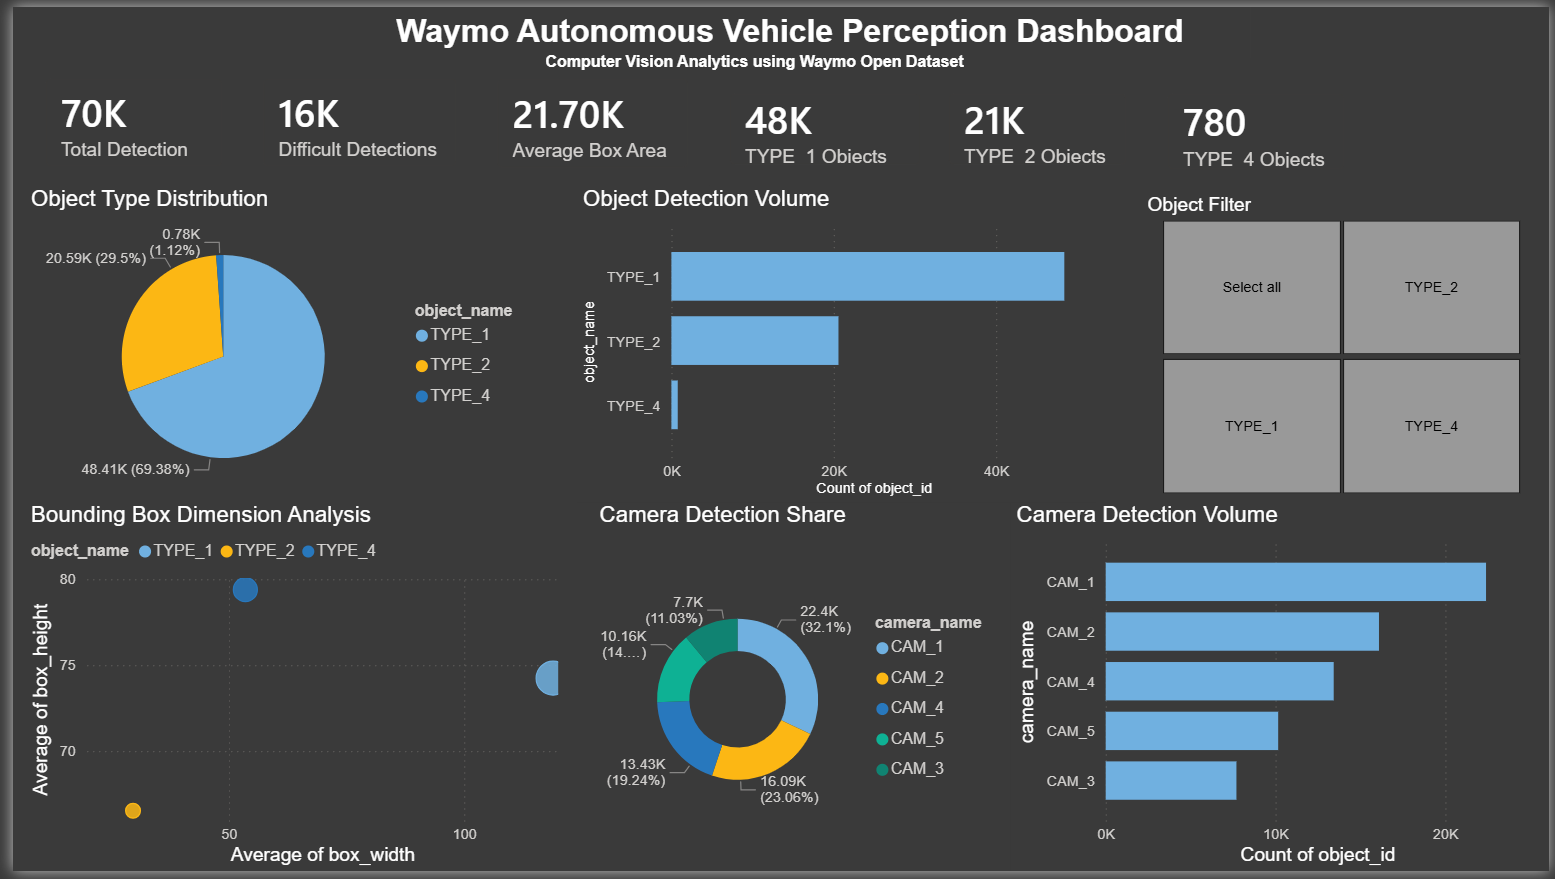

This screenshot's page, from the dashboard's own definition file:
{"tool":"powerbi","page":{"name":"Page 1","canvas":[1280,720],"ordinal":0},"visuals":[{"type":"cardVisual","fields":{"Data":["waymo_master_dataset.Total Detection"]},"box":[10,42.5,181.2,107.5],"z":0},{"type":"cardVisual","fields":{"Data":["waymo_master_dataset.Difficult Detections"]},"box":[191.2,42.5,195,107.5],"z":1000},{"type":"cardVisual","fields":{"Data":["waymo_master_dataset.Average Box Area"]},"box":[386.2,42.5,193.8,108.8],"z":2000},{"type":"cardVisual","fields":{"Data":["waymo_master_dataset.TYPE_1 Count"]},"box":[580,55,193.8,93.8],"z":3000},{"type":"cardVisual","fields":{"Data":["waymo_master_dataset.TYPE_2 Count"]},"box":[762.5,55,182.5,93.8],"z":4000},{"type":"pieChart","title":"Object Type Distribution","fields":{"Category":["waymo_master_dataset.object_name"],"Y":["CountNonNull(waymo_master_dataset.object_id)"]},"box":[10,148.8,428.8,263.8],"z":5000},{"type":"barChart","title":"Camera Detection Volume","fields":{"Category":["waymo_master_dataset.camera_name"],"Y":["CountNonNull(waymo_master_dataset.object_id)"]},"box":[831.2,412.5,448.8,307.5],"z":6000},{"type":"scatterChart","title":"Bounding Box Dimension Analysis","fields":{"X":["Avg(waymo_master_dataset.box_width)"],"Y":["Avg(waymo_master_dataset.box_height)"],"Series":["waymo_master_dataset.object_name"],"Size":["Avg(waymo_master_dataset.box_area)"]},"box":[10,412.5,460,307.5],"z":7000},{"type":"slicer","fields":{"Values":["waymo_master_dataset.object_name"]},"box":[932.5,150,347.5,262.5],"z":8000},{"type":"cardVisual","fields":{"Data":["waymo_master_dataset.TYPE_4 Count"]},"box":[945,55,181.2,97.5],"z":9000},{"type":"donutChart","title":"Camera Detection Share","fields":{"Y":["CountNonNull(waymo_master_dataset.object_id)"],"Category":["waymo_master_dataset.camera_name"]},"box":[483.8,412.5,347.5,307.5],"z":10000},{"type":"barChart","title":"Object Detection Volume","fields":{"Category":["waymo_master_dataset.object_name"],"Y":["CountNonNull(waymo_master_dataset.object_id)"]},"box":[470,148.8,432.5,263.8],"z":11000},{"type":"textbox","box":[248.8,0,782.5,42.5],"z":12000},{"type":"textbox","box":[438.8,32.5,368.8,25],"z":13000}]}

Visuals, with their boxes in screenshot pixels (x1, y1, x2, y2), scaled from the page's 1280x720 canvas onto the 1555x879 screenshot:
cardVisual - waymo_master_dataset.Total Detection: bbox(12, 52, 232, 183)
cardVisual - waymo_master_dataset.Difficult Detections: bbox(232, 52, 469, 183)
cardVisual - waymo_master_dataset.Average Box Area: bbox(469, 52, 705, 185)
cardVisual - waymo_master_dataset.TYPE_1 Count: bbox(705, 67, 940, 182)
cardVisual - waymo_master_dataset.TYPE_2 Count: bbox(926, 67, 1148, 182)
"Object Type Distribution" pieChart: bbox(12, 182, 533, 504)
"Camera Detection Volume" barChart: bbox(1010, 504, 1554, 878)
"Bounding Box Dimension Analysis" scatterChart: bbox(12, 504, 571, 878)
slicer - waymo_master_dataset.object_name: bbox(1133, 183, 1554, 504)
cardVisual - waymo_master_dataset.TYPE_4 Count: bbox(1148, 67, 1368, 186)
"Camera Detection Share" donutChart: bbox(588, 504, 1010, 878)
"Object Detection Volume" barChart: bbox(571, 182, 1096, 504)
textbox: bbox(302, 0, 1253, 52)
textbox: bbox(533, 40, 981, 70)
